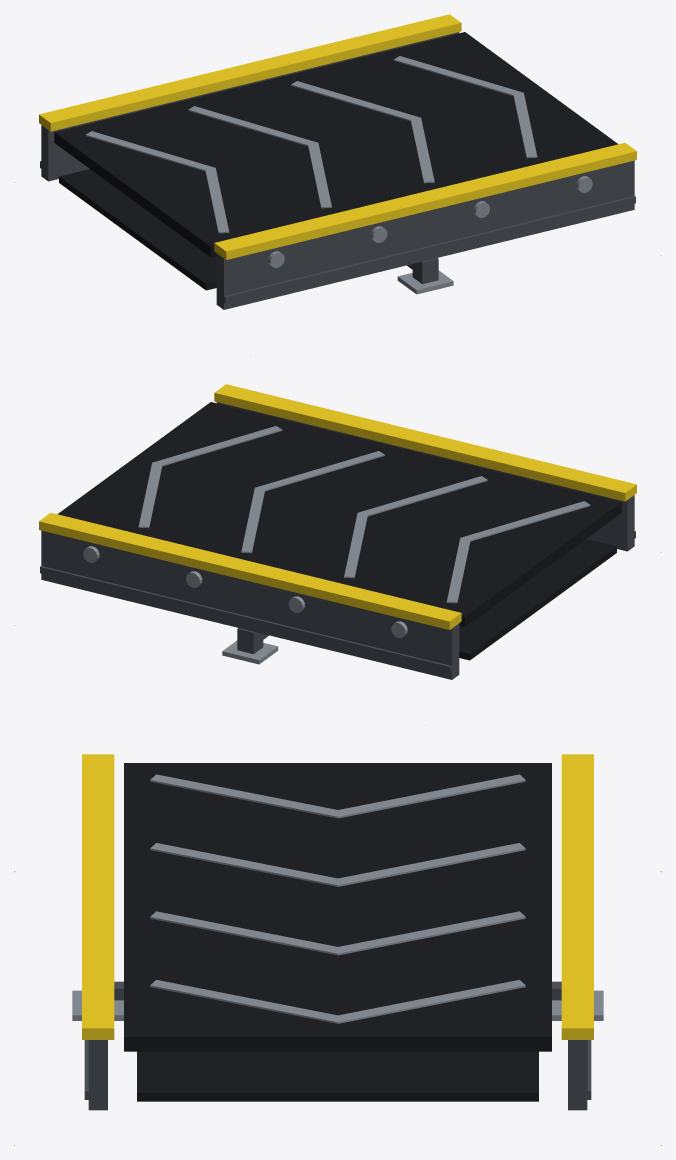
File: convoyeur_t1.glb
3 views of the same model, one above another, from view 1: azimuth 30°, elevation 25°; view 2: azimuth 150°, elevation 25°; view 3: azimuth 270°, elevation 25° (orthographic). The views are drawn at different scales.
Parts seen in each view (by area): view 1: pieces_noir.030, pieces_acier_sombre.022, pieces_rive_t1.006, bande_acier.048, pieces_acier.054; view 2: pieces_noir.030, pieces_acier_sombre.022, pieces_rive_t1.006, bande_acier.048, pieces_acier.054; view 3: pieces_noir.030, pieces_rive_t1.006, bande_acier.048, pieces_acier_sombre.022, pieces_acier.054.
Boxes of the visible parts, x1,y1,x2,y2 form: pieces_noir.030: (54,32,617,290); pieces_acier_sombre.022: (40,32,635,309); pieces_rive_t1.006: (39,14,636,259); bande_acier.048: (85,56,537,233); pieces_acier.054: (268,176,592,294); pieces_noir.030: (58,402,621,660); pieces_acier_sombre.022: (40,402,635,679); pieces_rive_t1.006: (39,384,636,629); bande_acier.048: (138,426,590,603); pieces_acier.054: (83,546,407,664); pieces_noir.030: (124,763,551,1101); pieces_rive_t1.006: (82,754,593,1039); bande_acier.048: (150,774,525,1023); pieces_acier_sombre.022: (84,981,591,1110); pieces_acier.054: (72,990,603,1020).
Size of the model in its own units: 1 by 0.2 by 1.
